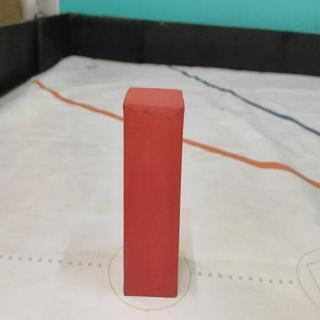redbox: (123, 87, 185, 297)
